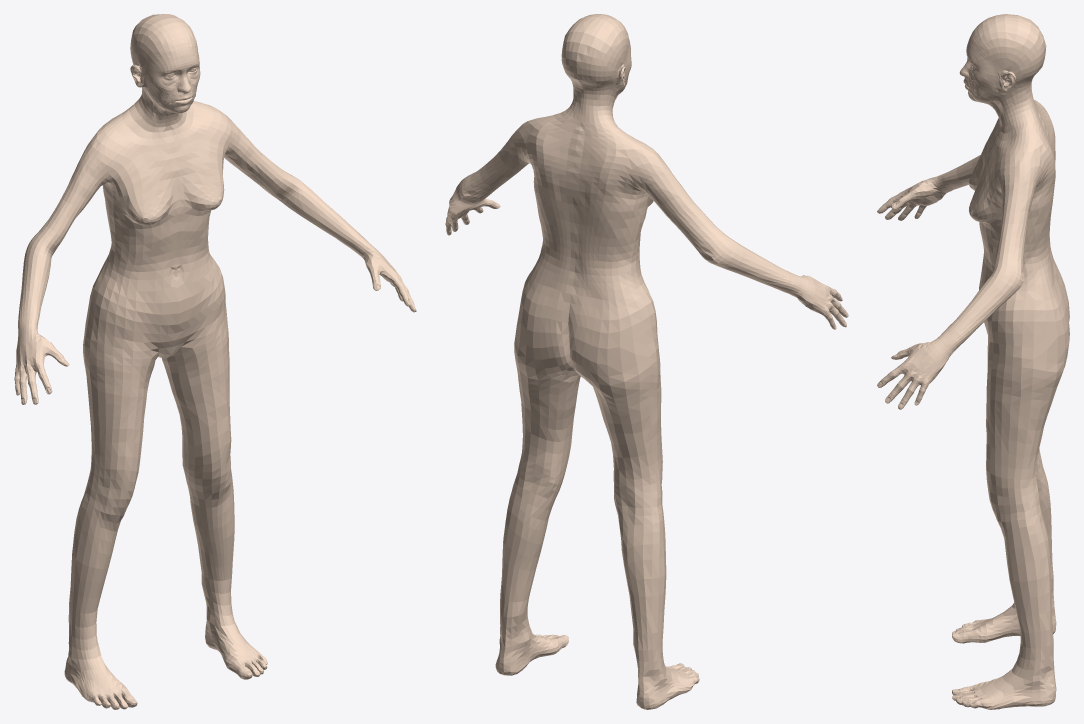
Rendered from female-older-fit-low.glb.
3 views of the same model, side by side, from view 1: azimuth 30°, elevation 25°; view 2: azimuth 150°, elevation 25°; view 3: azimuth 270°, elevation 25° (orthographic).
Visible parts, largest first — view 1: world; view 2: world; view 3: world.
Part boxes in pixels (bbox=[...]): world: bbox=[14, 14, 416, 709]; world: bbox=[445, 14, 848, 709]; world: bbox=[877, 14, 1069, 709].
Size of the model in its own units: 1.13 by 1.8 by 0.4824.
